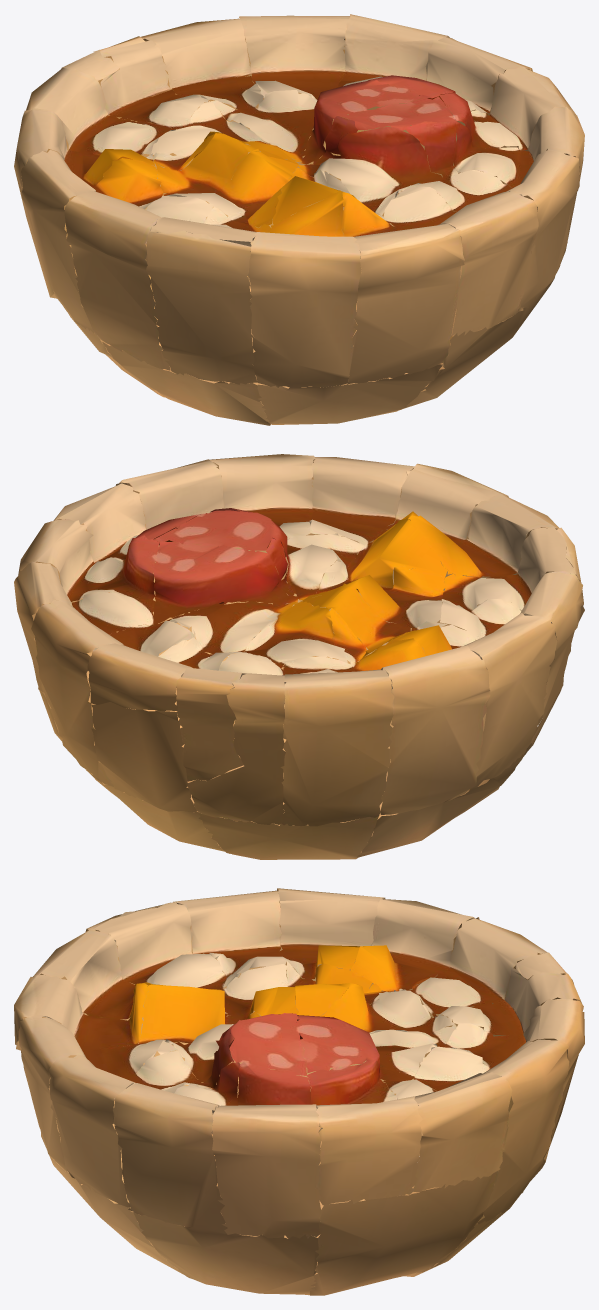
The model's file is food_lance_runtime.glb.
3 views of the same model, one above another, from view 1: azimuth 30°, elevation 25°; view 2: azimuth 150°, elevation 25°; view 3: azimuth 270°, elevation 25° (orthographic).
Visible parts, largest first — view 1: Mesh_0; view 2: Mesh_0; view 3: Mesh_0.
Part boxes in pixels (x1,y1,x2,y2): Mesh_0: (14, 14, 584, 425); Mesh_0: (14, 454, 584, 859); Mesh_0: (14, 888, 584, 1295).
Bounding box in the file's own units: 1.07 × 0.5258 × 1.08.
Materials: 1 (1 with a texture image).
